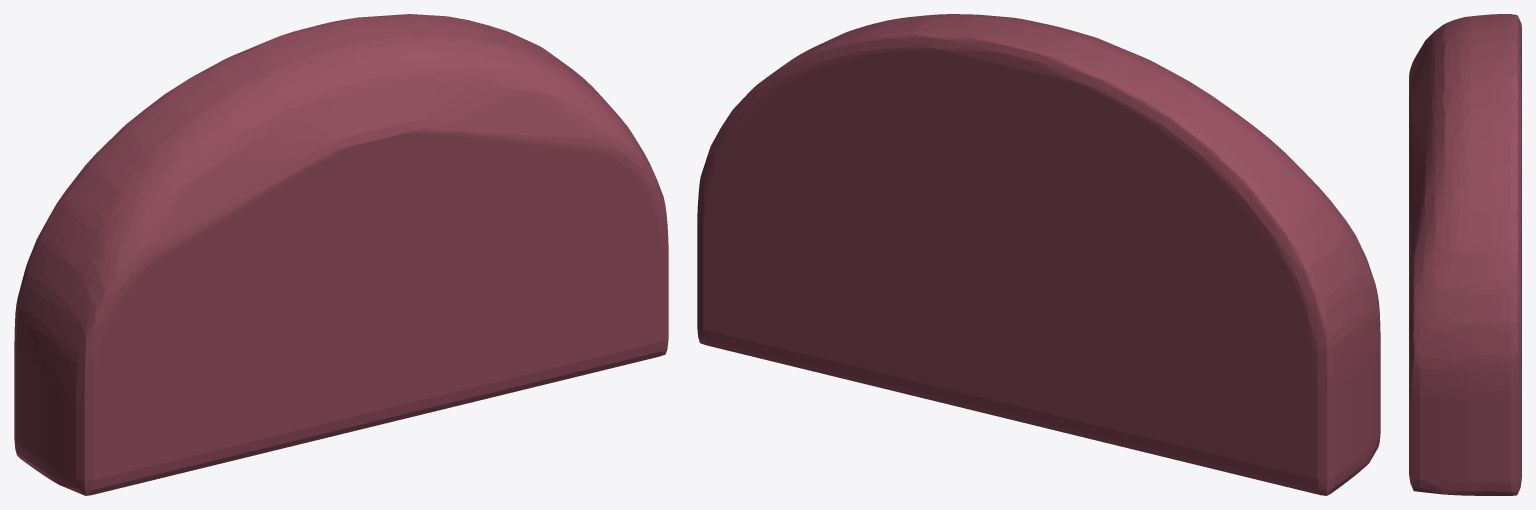
Rendered from pelvis_part_13.obj.
3 views of the same model, side by side, from view 1: azimuth 30°, elevation 25°; view 2: azimuth 150°, elevation 25°; view 3: azimuth 270°, elevation 25° (orthographic). The views are drawn at different scales.
Size of the model in its own units: 0.1405 by 0.0792 by 0.0256.
